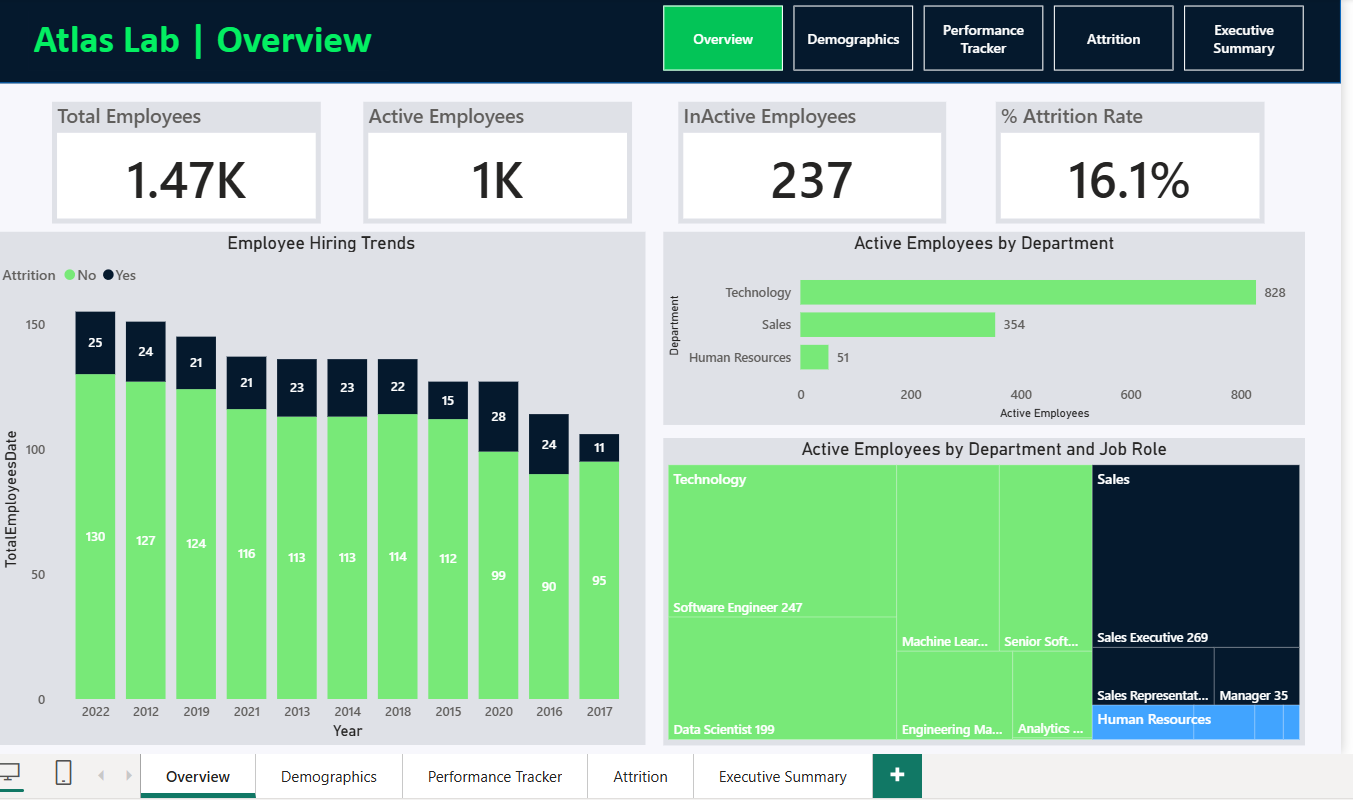

The page's visual inventory and layout, read from the dashboard file:
{"tool":"powerbi","page":{"name":"Overview","canvas":[1280,720],"ordinal":0},"visuals":[{"type":"cardVisual","title":"Total Employees","fields":{"Data":["_Measures.TotalEmployees"]},"box":[52.5,98.8,256.2,116.2],"z":0},{"type":"cardVisual","title":"Active Employees","fields":{"Data":["_Measures.Active Employees"]},"box":[348.8,98.8,256.2,116.2],"z":1000},{"type":"cardVisual","title":"InActive Employees","fields":{"Data":["_Measures.InActive Employees"]},"box":[648.8,98.8,255,116.2],"z":2000},{"type":"cardVisual","title":"% Attrition Rate","fields":{"Data":["_Measures.% Attrition Rate"]},"box":[951.2,98.8,256.2,116.2],"z":3000},{"type":"columnChart","title":"Employee Hiring Trends","fields":{"Y":["_Measures.TotalEmployeesDate"],"Series":["Dim_Employee.Attrition"],"Category":["DimDate.Year"]},"box":[0,222.5,617.5,488.8],"z":4000},{"type":"clusteredBarChart","title":"Active Employees by Department","fields":{"Category":["Dim_Employee.Department"],"Y":["_Measures.Active Employees"]},"box":[635,222.5,611.2,183.8],"z":5000},{"type":"treemap","title":"Active Employees by Department and Job Role","fields":{"Values":["_Measures.Active Employees"],"Group":["Dim_Employee.Department"],"Details":["Dim_Employee.JobRole"]},"box":[635,418.8,611.2,292.5],"z":6000},{"type":"shape","box":[0,0,1280,81.2],"z":7000},{"type":"textbox","box":[30,12.5,343.8,57.5],"z":8000},{"type":"pageNavigator","box":[635,7.5,611.2,62.5],"z":9000}]}

Visuals, with their boxes on the page's 1280x720 design canvas (x1, y1, x2, y2). These are canvas units, not pixel positions in the 1353x800 screenshot, which may show the page scaled, cropped or inside an application window:
"Total Employees" cardVisual: [52, 99, 309, 215]
"Active Employees" cardVisual: [349, 99, 605, 215]
"InActive Employees" cardVisual: [649, 99, 904, 215]
"% Attrition Rate" cardVisual: [951, 99, 1207, 215]
"Employee Hiring Trends" columnChart: [0, 222, 618, 711]
"Active Employees by Department" clusteredBarChart: [635, 222, 1246, 406]
"Active Employees by Department and Job Role" treemap: [635, 419, 1246, 711]
shape: [0, 0, 1280, 81]
textbox: [30, 12, 374, 70]
pageNavigator: [635, 8, 1246, 70]
